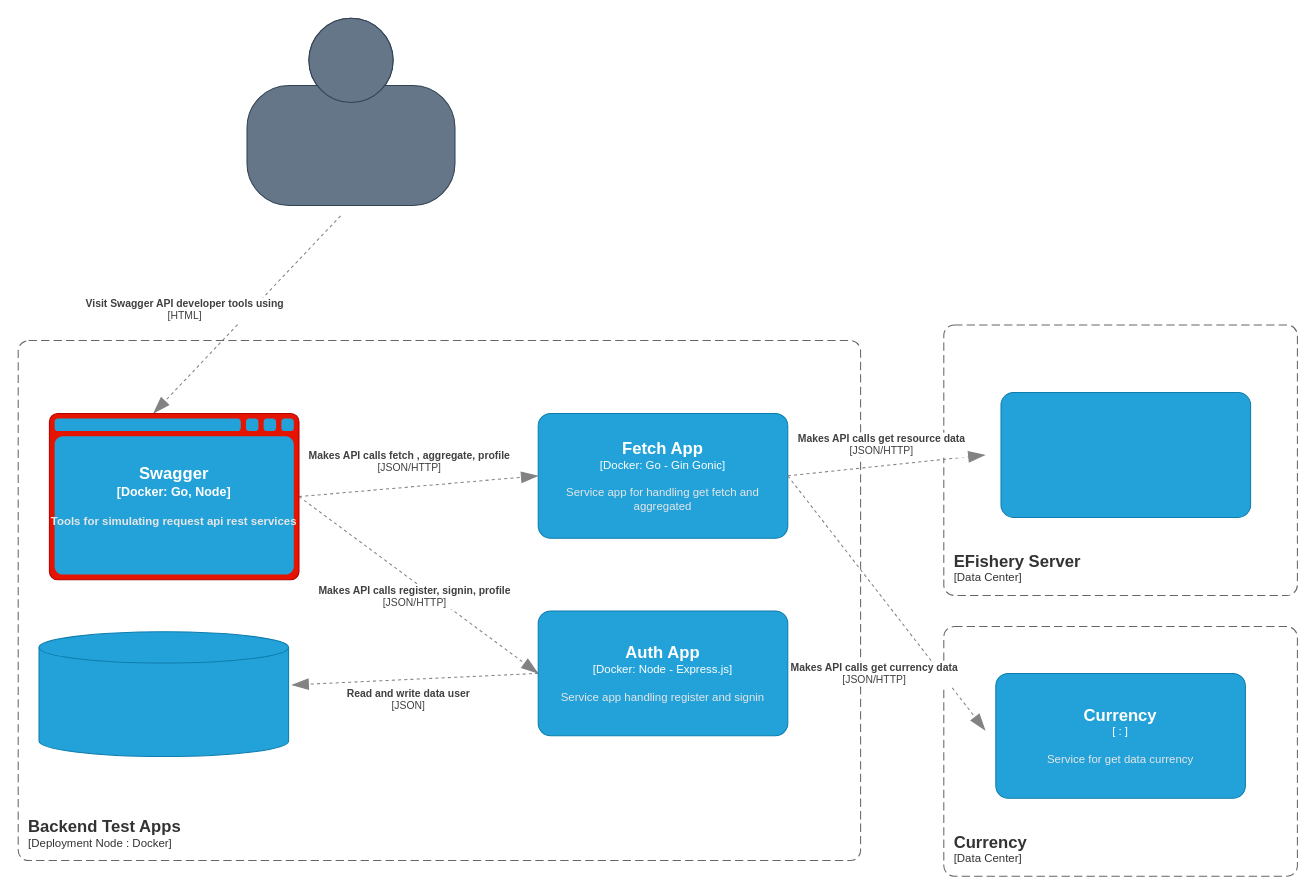
Some shapes in this 1316 by 894 pixel diagram are drawn without their labels. The centre of each missing label's shape, as x and y in pixels:
EFishery Stein Svc [ : ] Service for getting example resources data: point (1125, 454)
Generic User [Person] User: point (350, 111)
User Data [File: JSON] Store register info and credential: point (163, 694)
